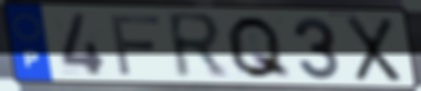3: (292, 15, 342, 81)
4: (58, 11, 108, 79)
F: (107, 13, 164, 77)
Q: (223, 13, 294, 81)
R: (163, 10, 231, 83)
X: (344, 14, 404, 84)
